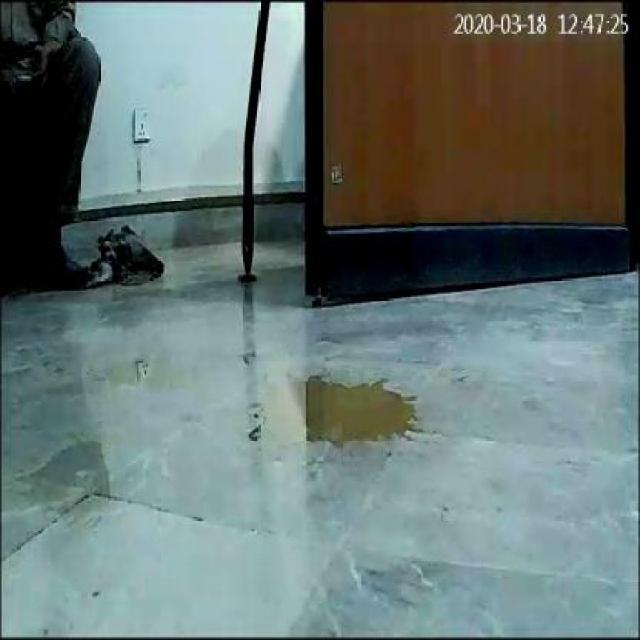spill: (260, 375, 418, 440)
